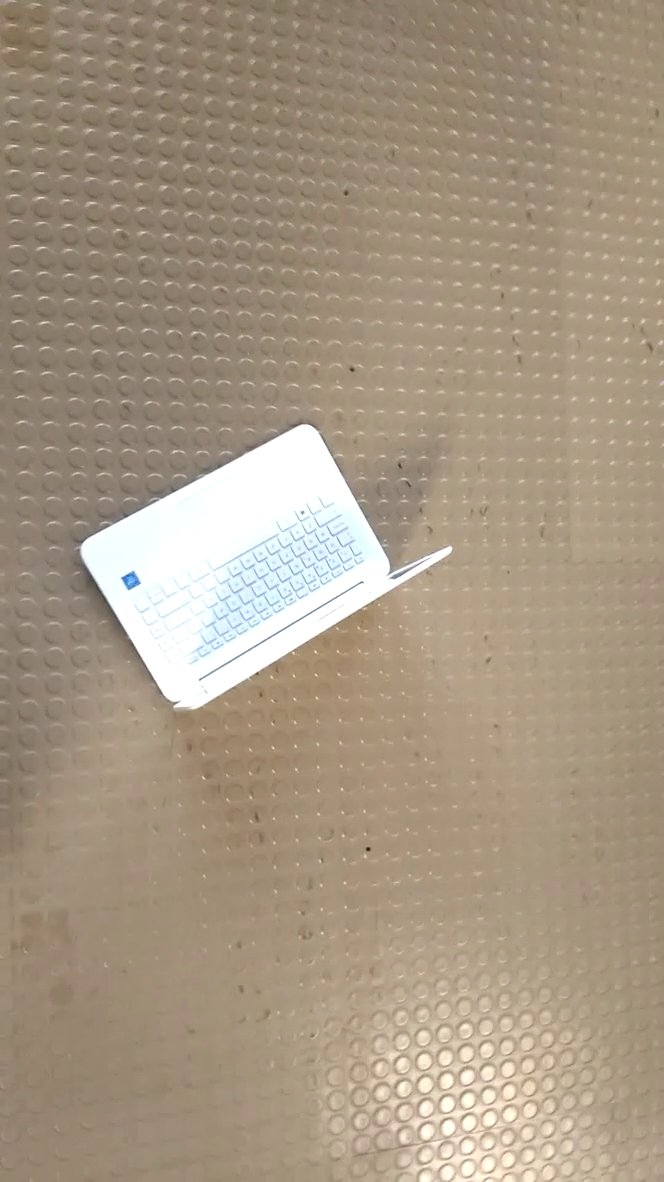laptop: (73, 414, 459, 719)
